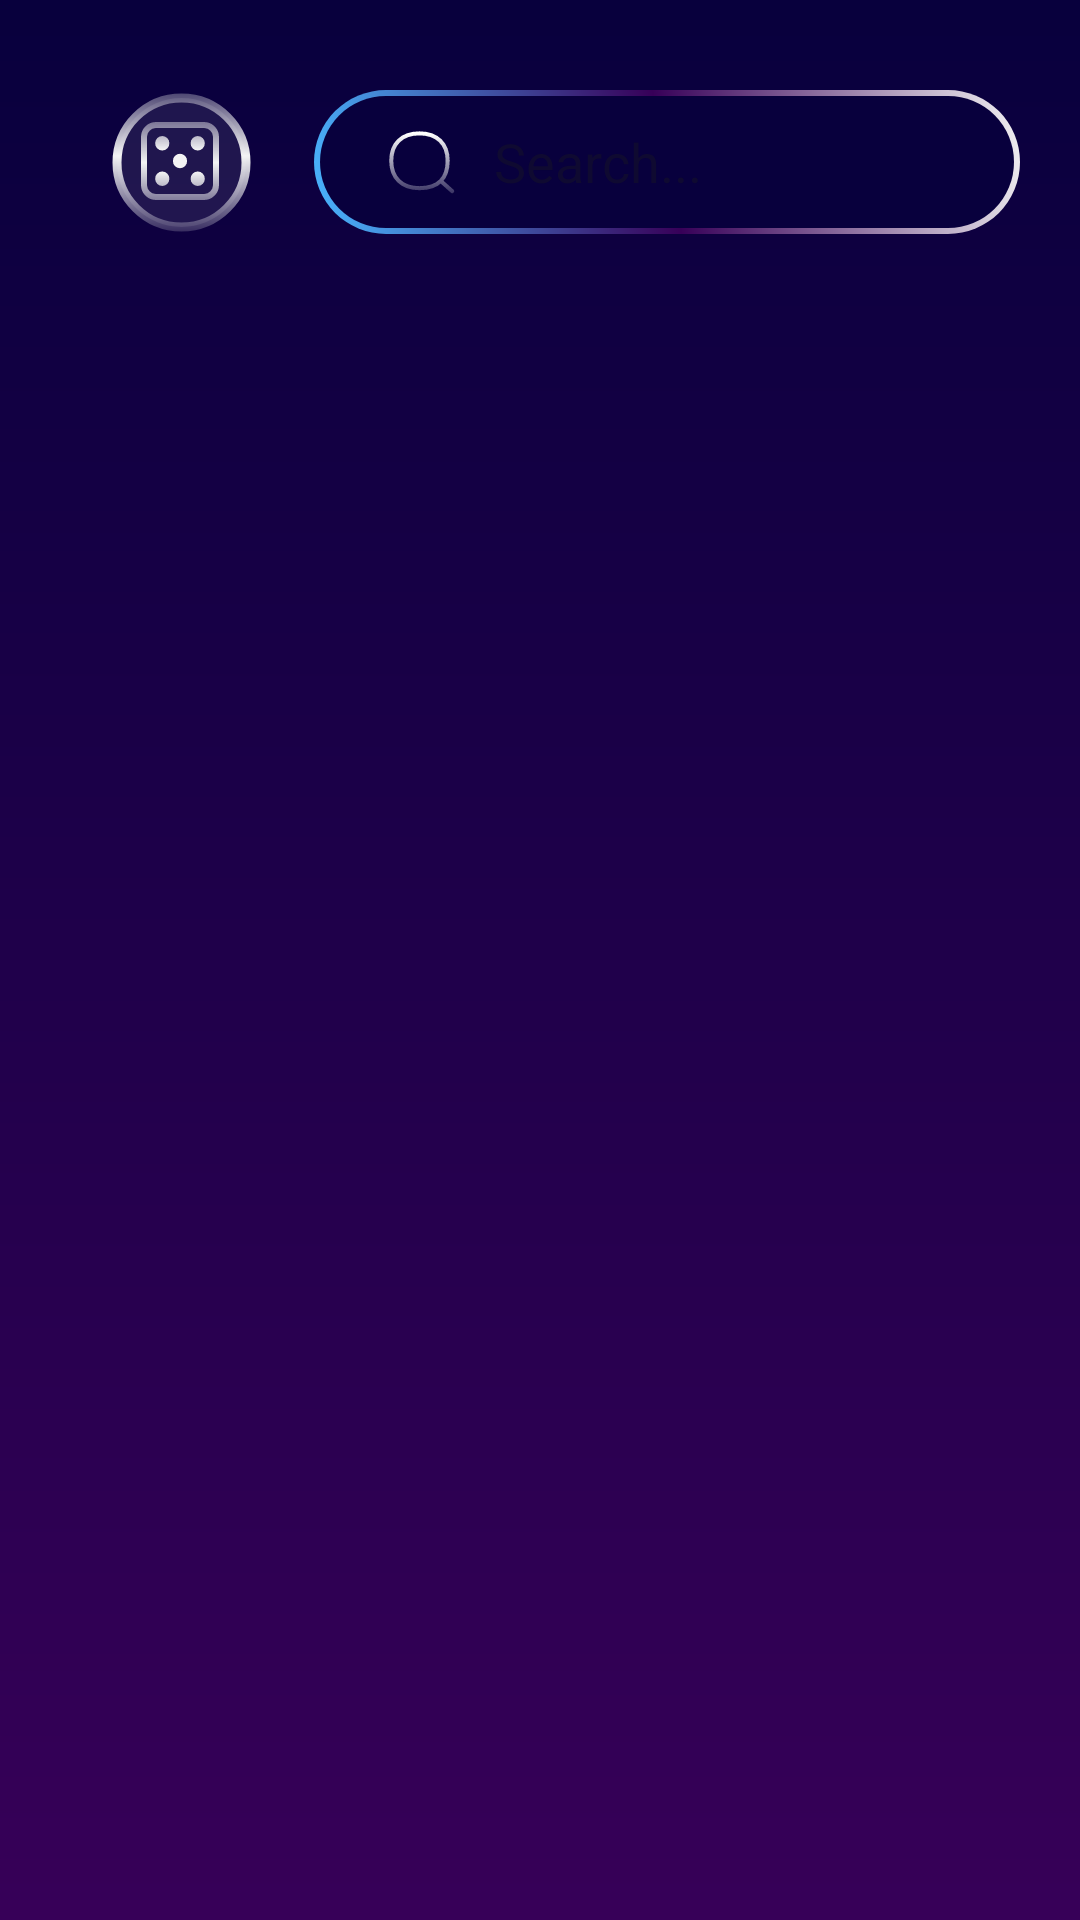

Point at icon controls on the screen. Image size 1080x1920, points as [x,y].
dice: [181,162]
